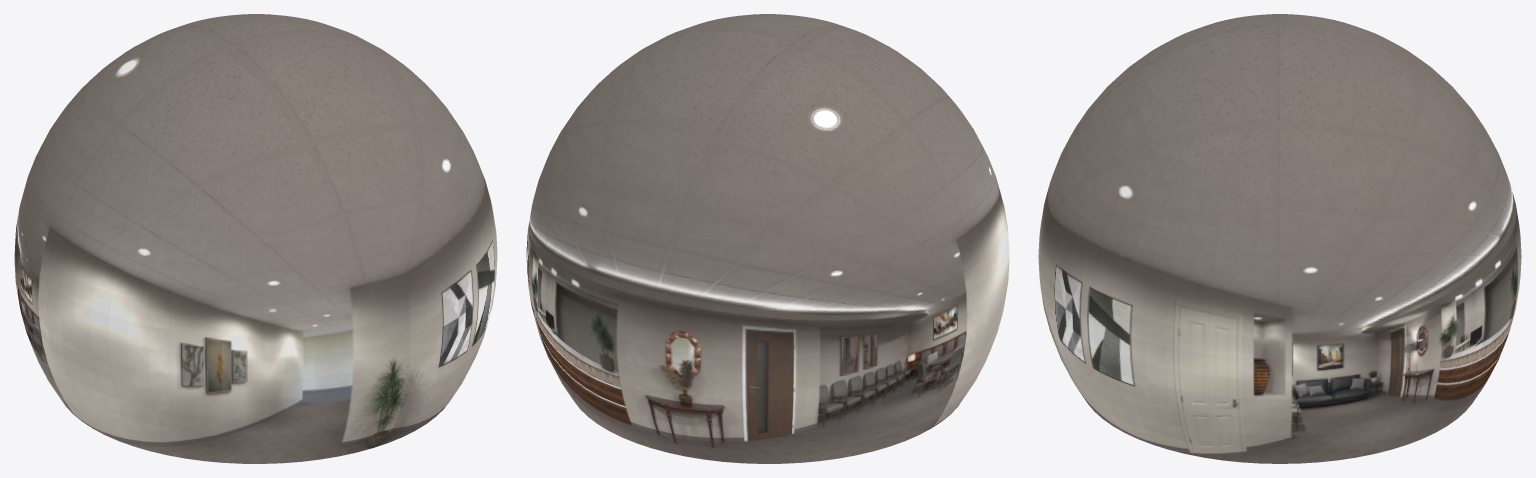
Rendered from Interior 56.glb.
3 views of the same model, side by side, from view 1: azimuth 30°, elevation 25°; view 2: azimuth 150°, elevation 25°; view 3: azimuth 270°, elevation 25° (orthographic).
Visible parts, largest first — view 1: Sphere; view 2: Sphere; view 3: Sphere.
Boxes of the visible parts, x1,y1,x2,y2 form: Sphere: (14, 14, 497, 463); Sphere: (526, 14, 1009, 463); Sphere: (1038, 14, 1521, 463).
Bounding box in the file's own units: 19.74 × 15.5 × 19.74.
Materials: 1 (1 with a texture image).
